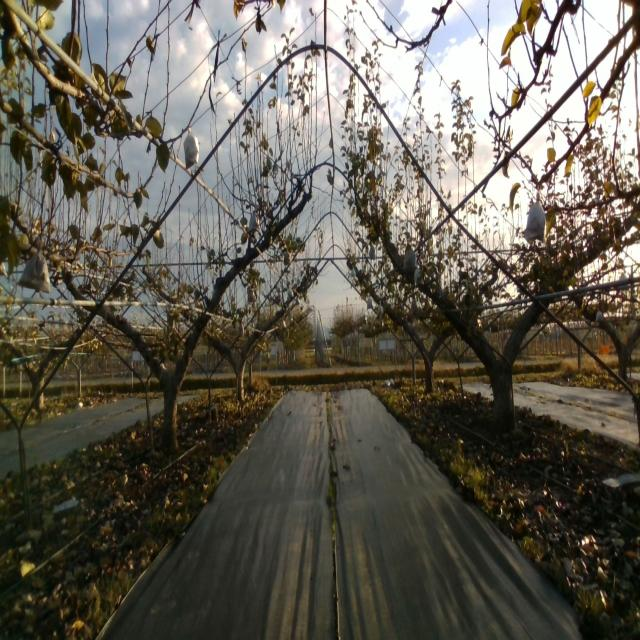pearbags: (524, 191, 546, 244), (183, 126, 199, 170), (247, 207, 263, 237), (403, 243, 418, 272), (413, 268, 425, 286)
